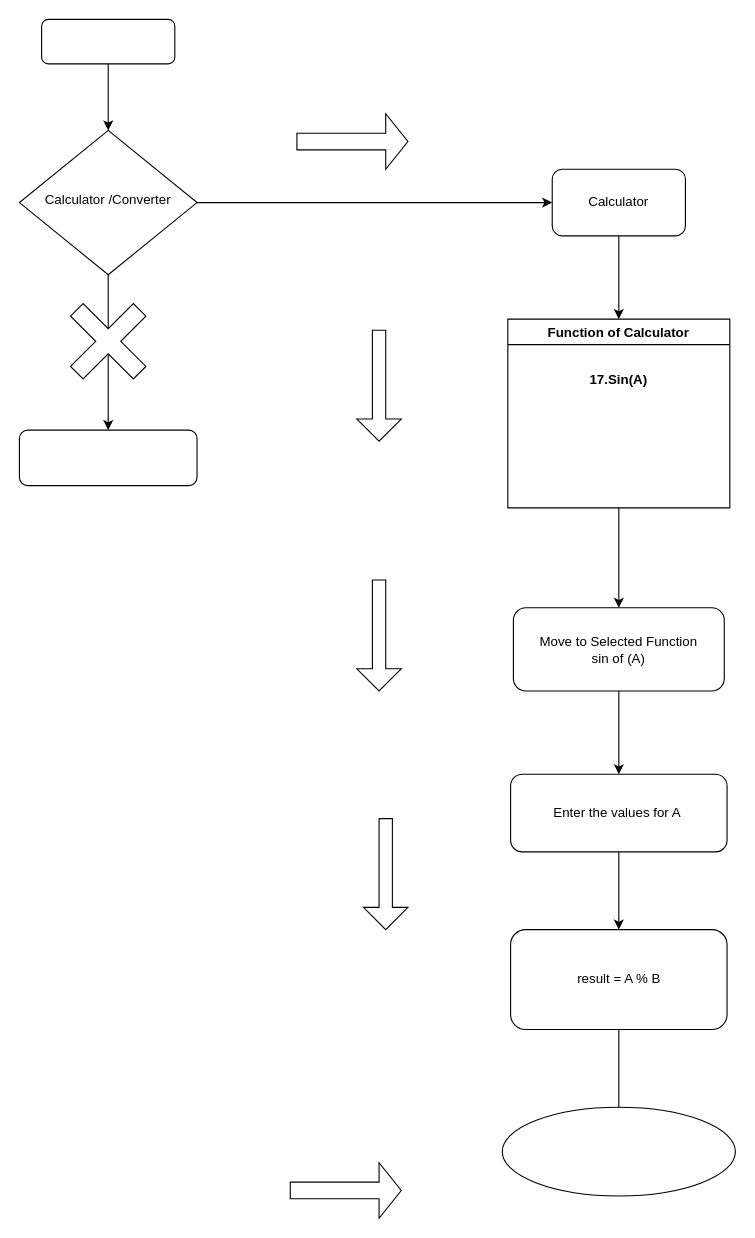
Some shapes in this 755 by 1238 pixel diagram are drawn without their labels. The shapes that lost their labels are listed below. From the top down, each one's box as (x1, y1, x2, y2) in pixels, then its label:
(41, 18, 175, 64): User interface
(18, 429, 197, 486): Converter
(501, 1106, 735, 1196): Result for the user
